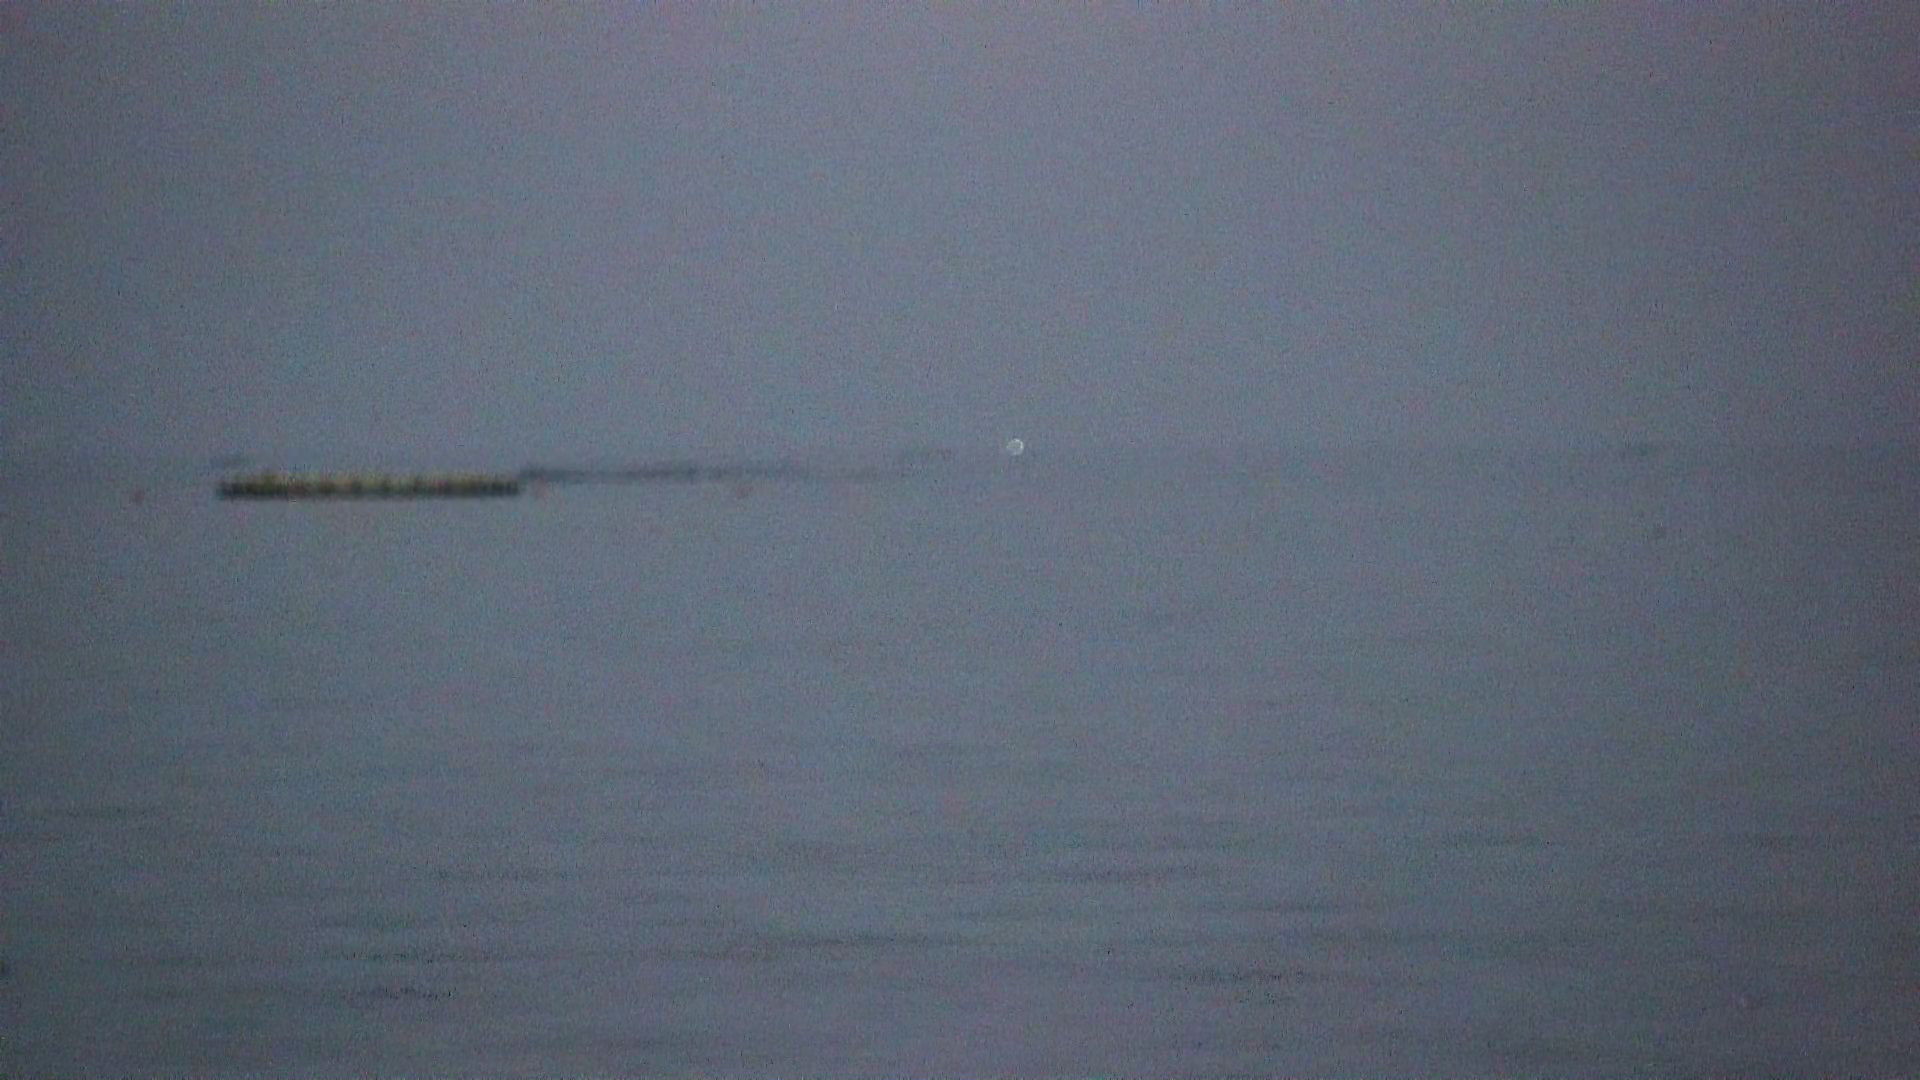platform: (198, 450, 535, 512)
